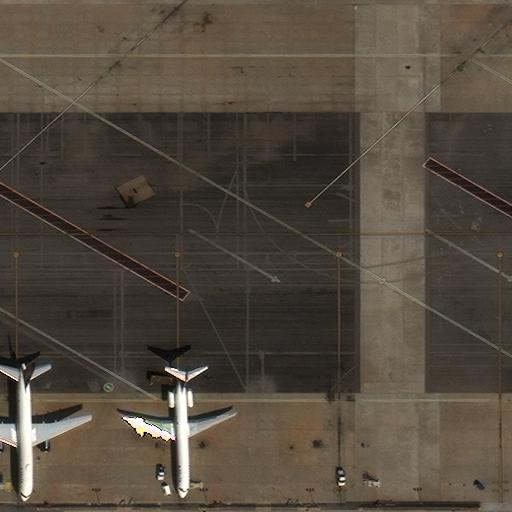Large Civil Transport: (0, 362, 91, 501)
Medium Civil Transport: (122, 368, 235, 499)
